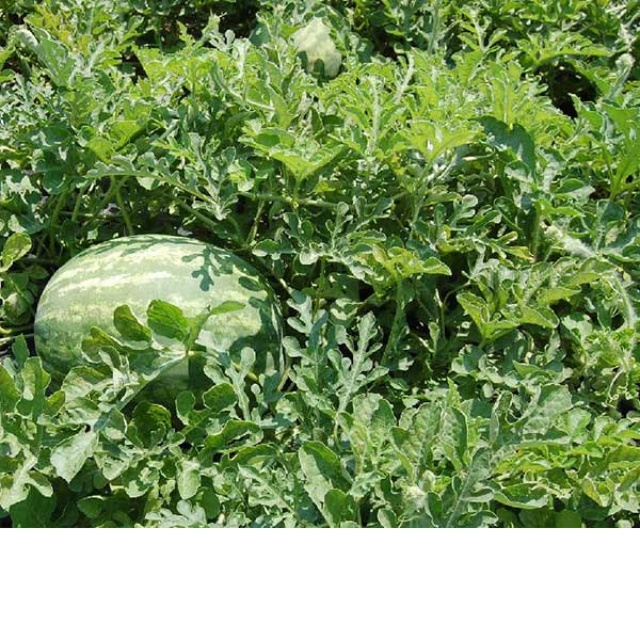dua_hau: (34, 234, 284, 397)
